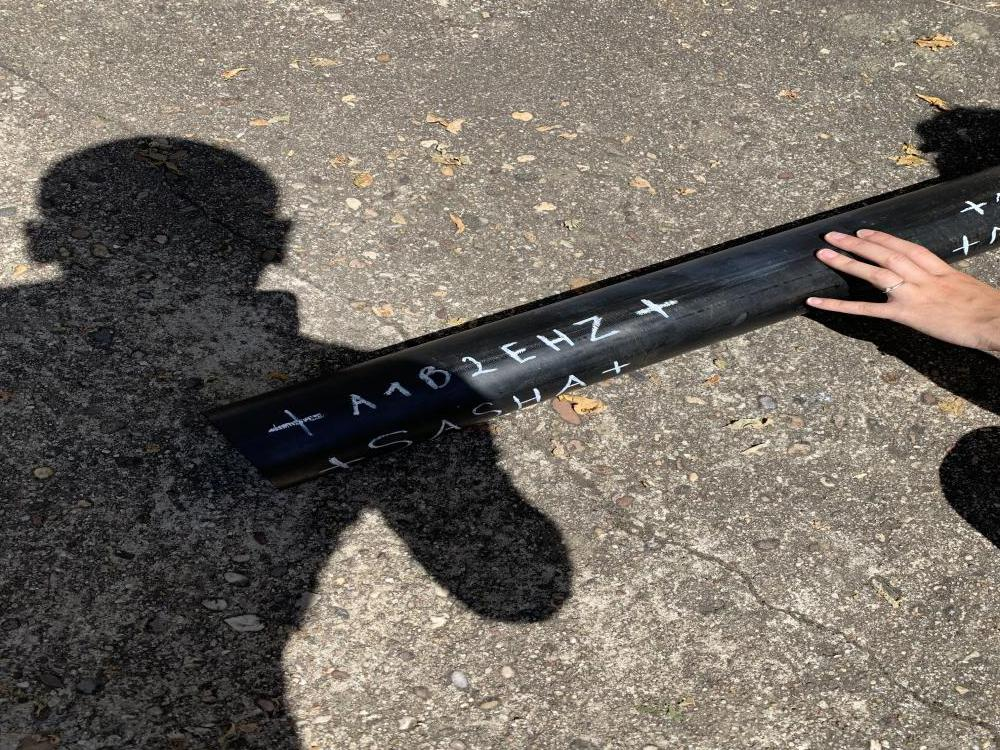+: (268, 409, 325, 437), (637, 298, 677, 318), (320, 457, 361, 473), (953, 236, 978, 257), (961, 200, 986, 216), (602, 361, 630, 375)
1: (385, 382, 411, 398)
2: (462, 356, 498, 377)
A: (556, 374, 585, 395), (350, 393, 376, 416), (434, 418, 460, 439)
B: (419, 365, 450, 392)
E: (500, 341, 536, 365)
H: (536, 329, 574, 351), (512, 388, 541, 409)
S: (369, 430, 412, 452), (474, 402, 502, 422)
Z: (574, 316, 619, 342)
